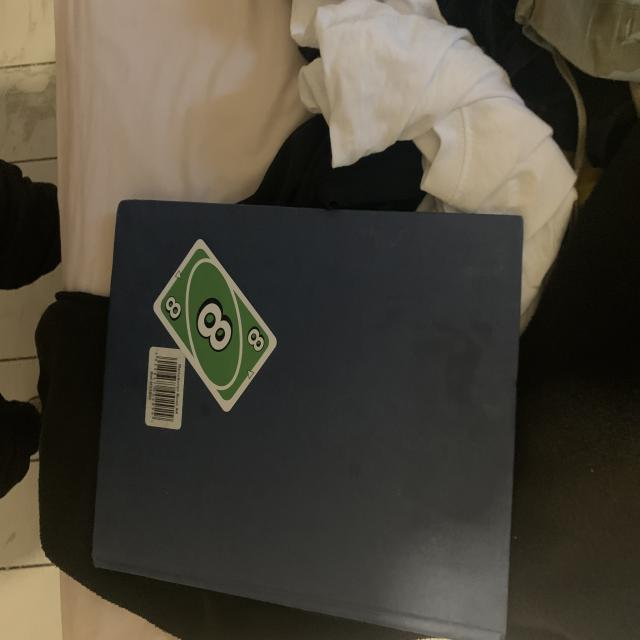lgreen-8: (163, 294, 185, 322)
